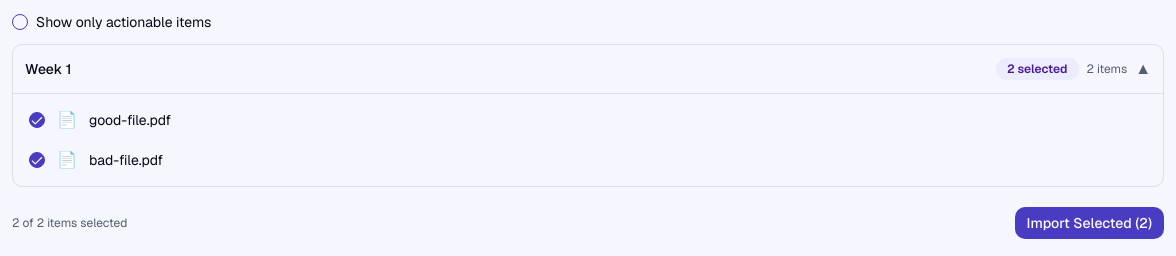
MoodleFilePicker › shows failed items list and retry button after import with failures
Expected: the text "good-file.pdf" is shown, [89,111,171,129]
Click the button "Import Selected (2)": {"x": 1089, "y": 223} [1015,207,1164,239]
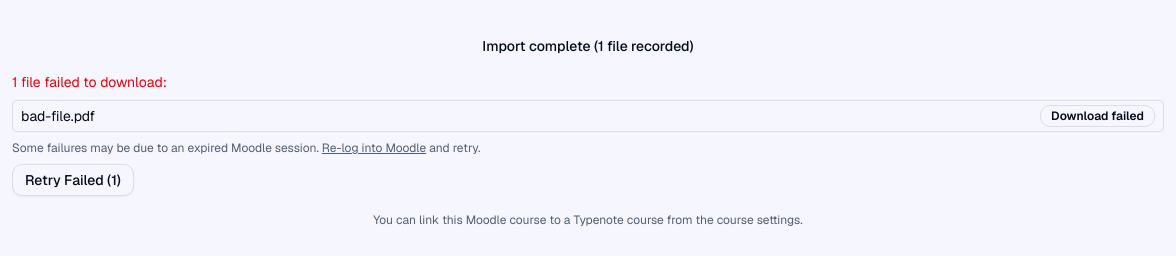
Expected: the text "Import complete (1 file recorded)" is shown, [482,36,694,56]
Expected: the text "1 file failed to download:" is shown, [12,73,167,91]
Expected: the list with test id "failed-items-list" is shown, [12,100,1164,132]
